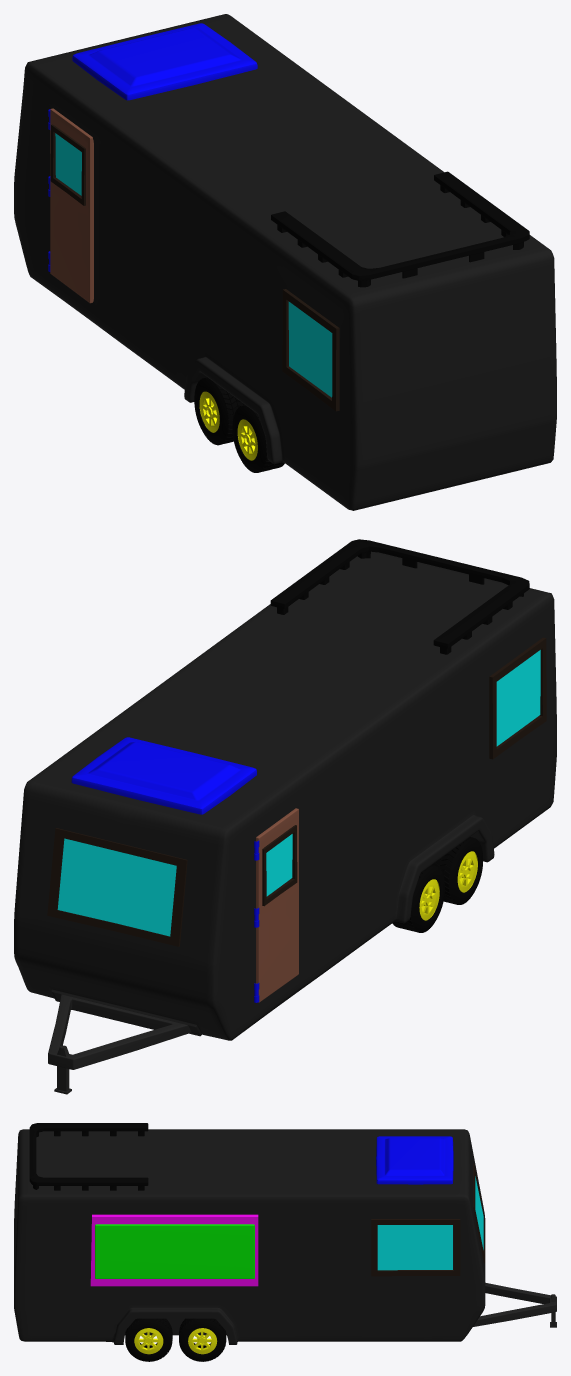
File: npc_RV.fbx
The picture shows the model from 3 angles, top to bottom: view 1: azimuth 30°, elevation 25°; view 2: azimuth 150°, elevation 25°; view 3: azimuth 270°, elevation 25°; orthographic projection. The views are drawn at different scales.
Visible parts, largest first — view 1: NPC_RV; view 2: NPC_RV; view 3: NPC_RV.
Part boxes in pixels (x1,y1,x2,y2): NPC_RV: (14,14,556,510); NPC_RV: (14,539,556,1094); NPC_RV: (14,1123,556,1361).
Size of the model in its own units: 2.8 by 3.04 by 8.64.
